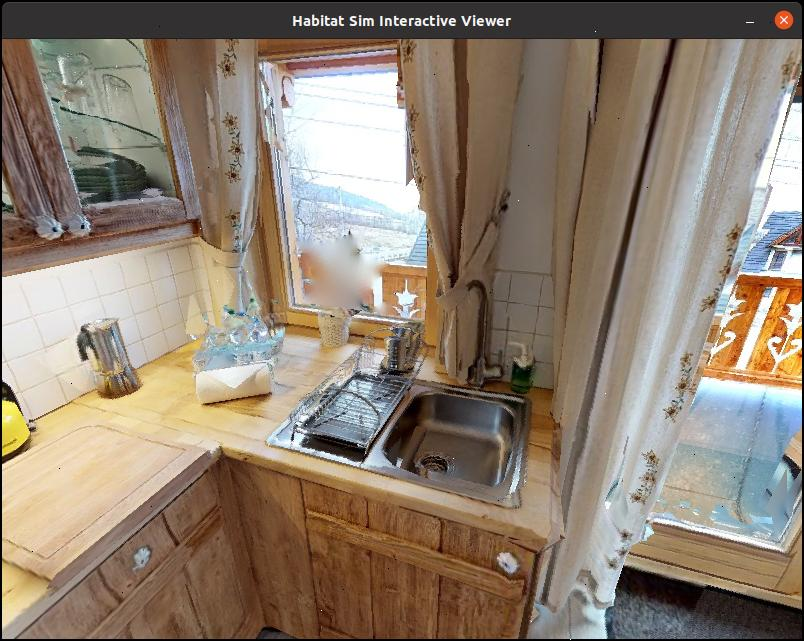sink: (250, 267, 561, 518)
